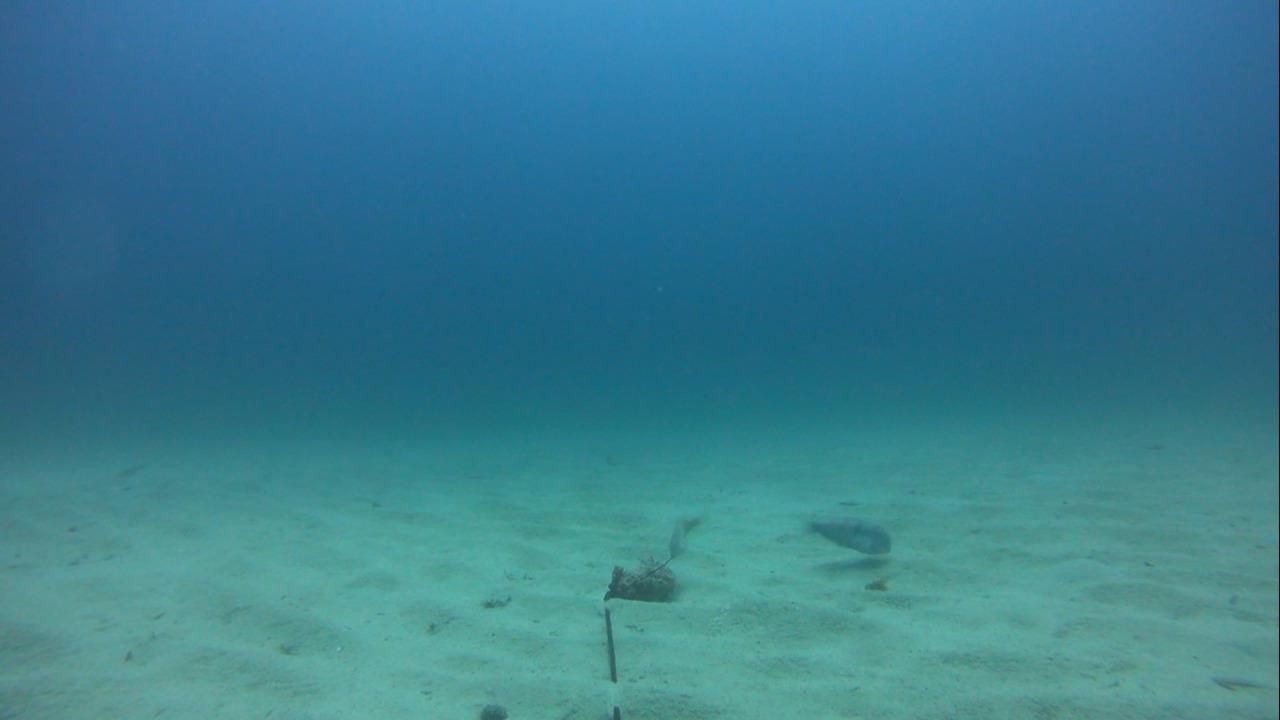raor: (794, 514, 893, 563), (663, 505, 702, 562)
